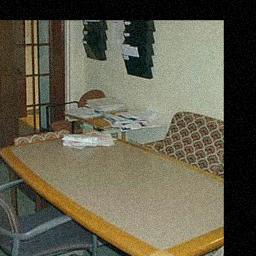Puerta: (0, 26, 65, 162)
